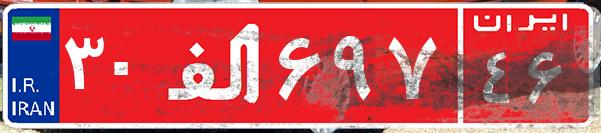0: (110, 28, 158, 105)
3: (57, 26, 110, 107)
4: (475, 38, 525, 113)
6: (273, 28, 330, 110), (525, 38, 570, 115)
7: (385, 28, 445, 110)
9: (330, 28, 385, 110)
الف: (158, 15, 273, 115)
